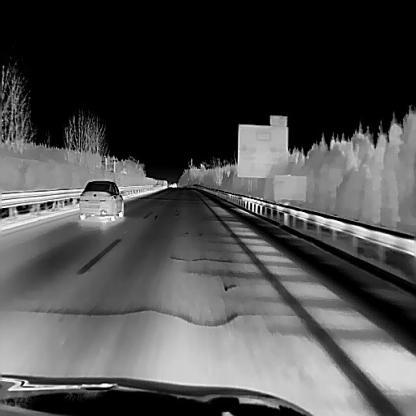car: (78, 180, 124, 221)
